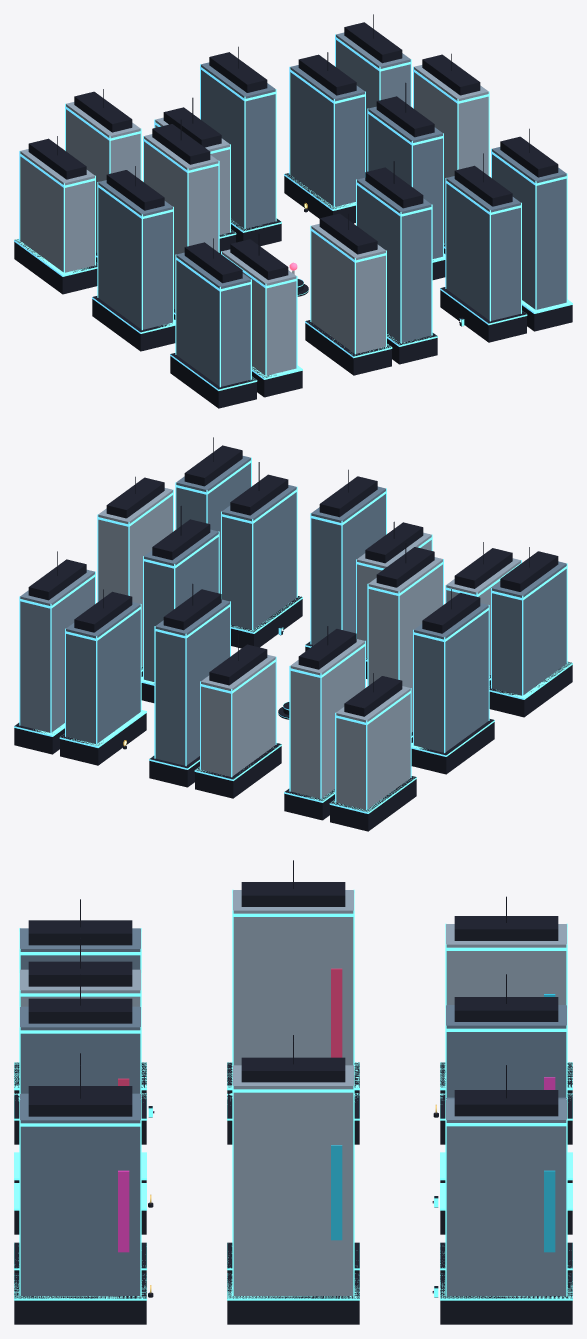
3 renders of one model, top to bottom at view 1: azimuth 30°, elevation 25°; view 2: azimuth 150°, elevation 25°; view 3: azimuth 270°, elevation 25°, orthographic. The views are drawn at different scales.
Visible parts, largest first — view 1: district_city_arcade.lod0; view 2: district_city_arcade.lod0; view 3: district_city_arcade.lod0.
Boxes of the visible parts, x1=… form: district_city_arcade.lod0: x1=14, y1=14, x2=572, y2=408; district_city_arcade.lod0: x1=14, y1=437, x2=572, y2=831; district_city_arcade.lod0: x1=14, y1=860, x2=572, y2=1324.
Bounding box in the file's own units: 97.1 × 51.99 × 97.1.
